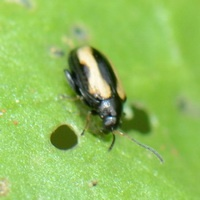insect: (64, 46, 163, 162), (64, 46, 125, 132)
